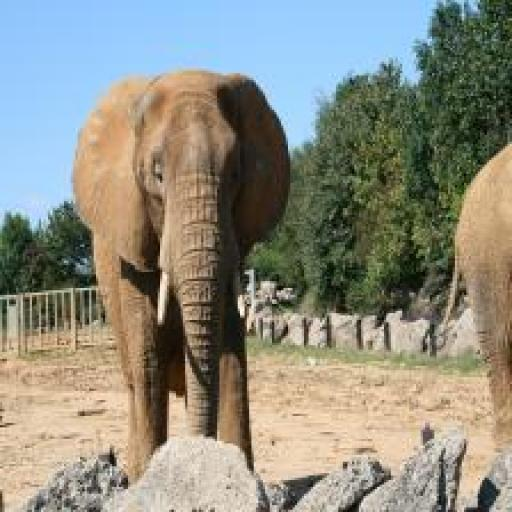Elephant: (71, 69, 291, 496), (439, 140, 511, 452)
